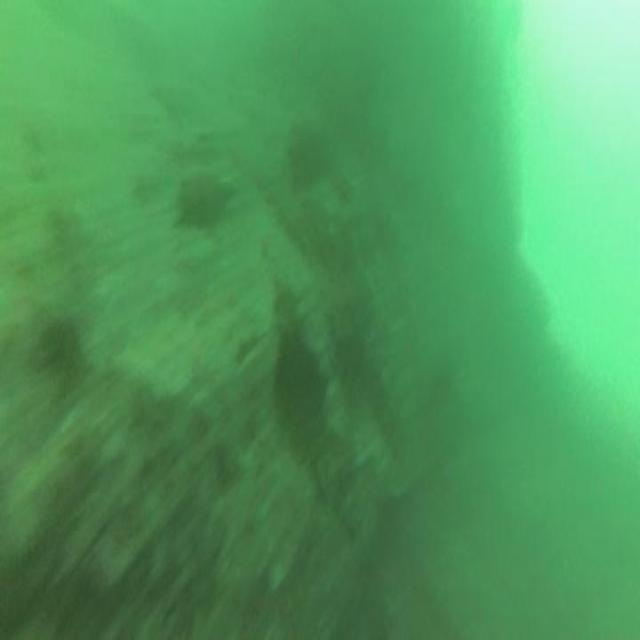echinus: (268, 314, 329, 432), (37, 308, 82, 398), (287, 122, 329, 194)
starfish: (172, 164, 236, 236)
